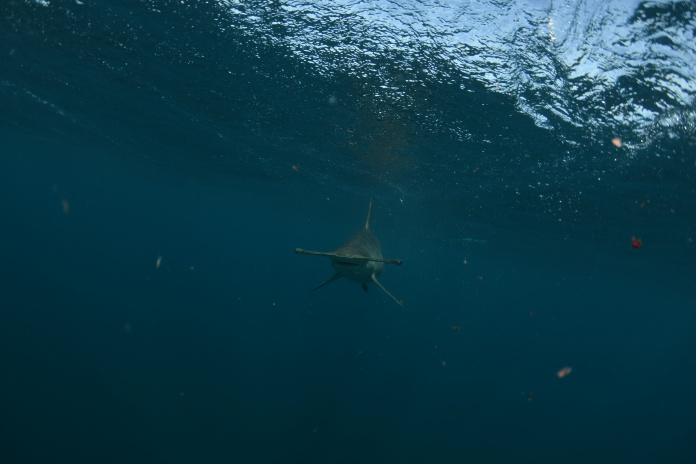Hammer: (265, 195, 434, 345)
